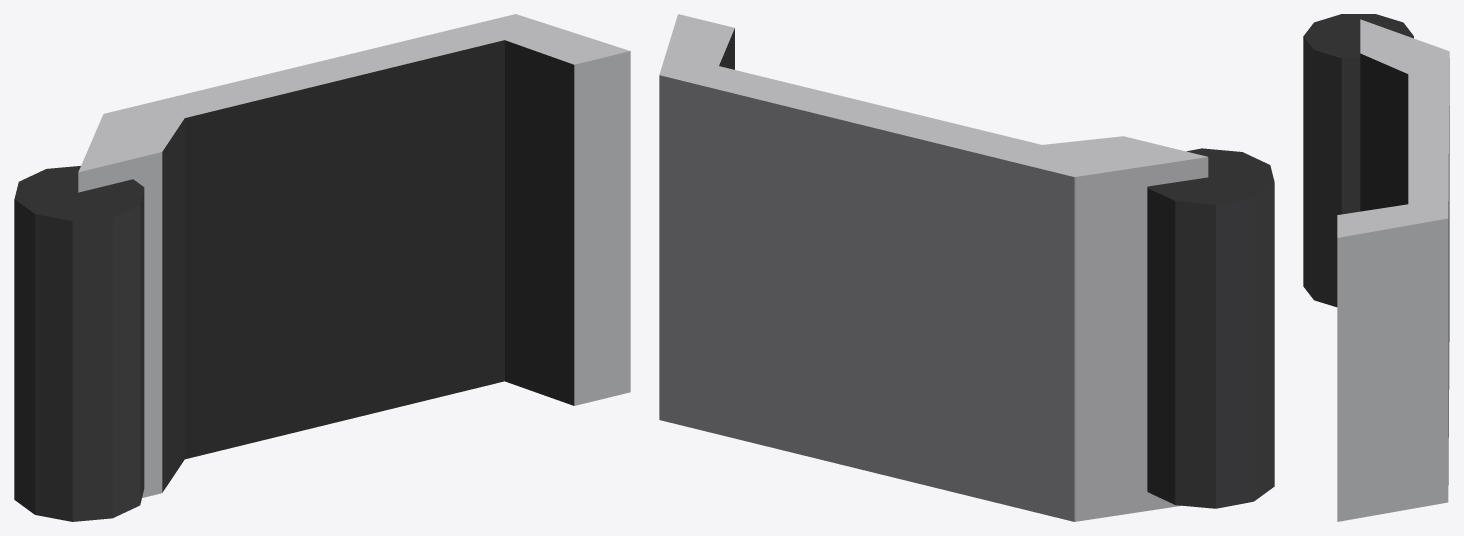
The model's file is WallClamp.fbx.
3 views of the same model, side by side, from view 1: azimuth 30°, elevation 25°; view 2: azimuth 150°, elevation 25°; view 3: azimuth 270°, elevation 25° (orthographic). The views are drawn at different scales.
Visible parts, largest first — view 1: WallClamp; view 2: WallClamp; view 3: WallClamp.
Boxes of the visible parts, x1,y1,x2,y2 form: WallClamp: [14, 14, 630, 521]; WallClamp: [659, 14, 1274, 521]; WallClamp: [1303, 14, 1449, 521].
Size of the model in its own units: 95.79 by 52.68 by 24.56.
